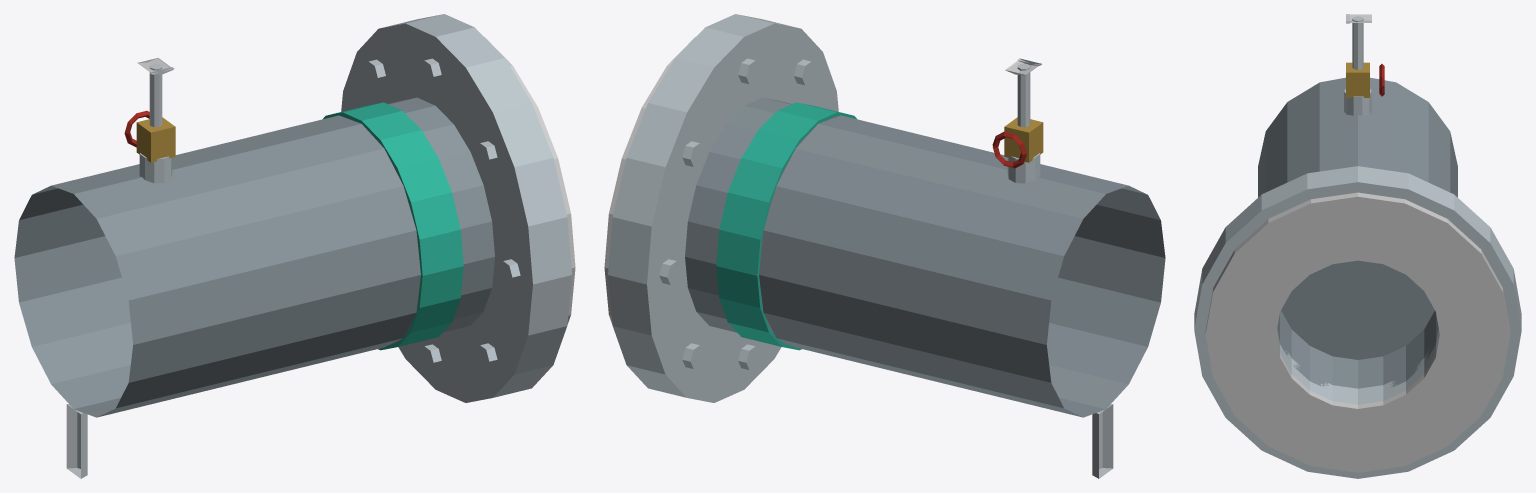
Rendered from cell_9.obj.
The picture shows the model from 3 angles, left to right: view 1: azimuth 30°, elevation 25°; view 2: azimuth 150°, elevation 25°; view 3: azimuth 270°, elevation 25°; orthographic projection. The views are drawn at different scales.
Bounding box in the file's own units: 1 × 0.91 × 0.82.
